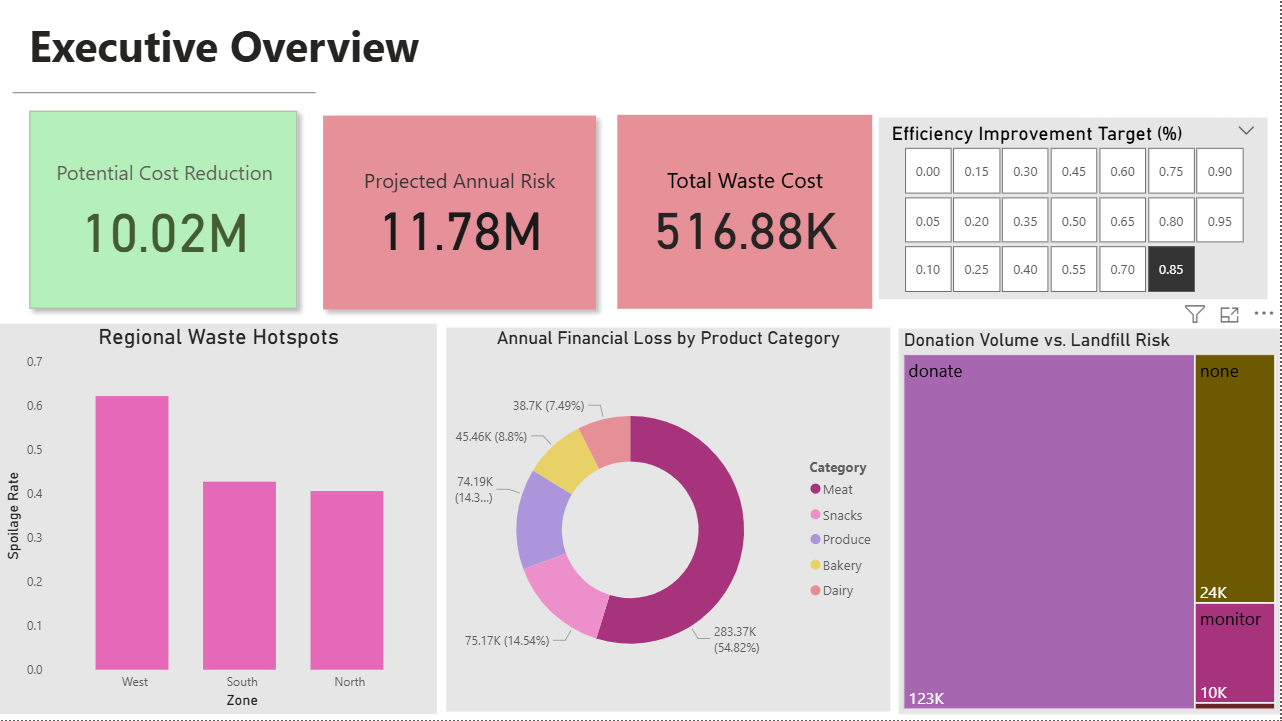

The page's visual inventory and layout, read from the dashboard file:
{"tool":"powerbi","page":{"name":"Executive Overview","canvas":[1280,720],"ordinal":0},"visuals":[{"type":"cardVisual","fields":{"Data":["Waste_Dataset_Processed (1).Projected Annual Savings"]},"box":[12.5,88.8,303.8,235],"z":0},{"type":"cardVisual","fields":{"Data":["Waste_Dataset_Processed (1).Total Waste Cost"]},"box":[612.9,110,265.7,204.3],"z":1000},{"type":"cardVisual","fields":{"Data":["Waste_Dataset_Processed (1).Projected Annual Waste Cost"]},"box":[305.7,98.6,307.1,228.6],"z":2000},{"type":"donutChart","title":"Annual Financial Loss by Product Category","fields":{"Category":["Waste_Dataset_Processed (1).Category"],"Y":["Waste_Dataset_Processed (1).Total Waste Cost"]},"box":[445.7,327.1,444.3,384.3],"z":3000},{"type":"lineClusteredColumnComboChart","title":"Regional Waste Hotspots","fields":{"Category":["Waste_Dataset_Processed (1).Zone"],"Y":["Waste_Dataset_Processed (1).Spoilage Rate"]},"box":[0,324.3,437.1,390],"z":4000},{"type":"treemap","title":"Donation Volume vs. Landfill Risk","fields":{"Group":["Waste_Dataset_Processed (1).SuggestedAction"],"Values":["Sum(Waste_Dataset_Processed (1).StockQty)"]},"box":[898.6,328.6,381.4,385.7],"z":5000},{"type":"slicer","fields":{"Values":["Efficiency Managment.Efficiency Managment"]},"box":[878.6,117.1,388.6,181.4],"z":6000},{"type":"textbox","box":[24.3,11.4,478.6,77.1],"z":7000}]}

Visuals, with their boxes in screenshot pixels (x1, y1, x2, y2), scaled from the page's 1280x720 canvas onto the 1282x721 screenshot:
cardVisual - Waste_Dataset_Processed (1).Projected Annual Savings: <region>13, 89, 317, 324</region>
cardVisual - Waste_Dataset_Processed (1).Total Waste Cost: <region>614, 110, 880, 315</region>
cardVisual - Waste_Dataset_Processed (1).Projected Annual Waste Cost: <region>306, 99, 614, 328</region>
"Annual Financial Loss by Product Category" donutChart: <region>446, 328, 891, 712</region>
"Regional Waste Hotspots" lineClusteredColumnComboChart: <region>0, 325, 438, 715</region>
"Donation Volume vs. Landfill Risk" treemap: <region>900, 329, 1281, 715</region>
slicer - Efficiency Managment.Efficiency Managment: <region>880, 117, 1269, 299</region>
textbox: <region>24, 11, 504, 89</region>
